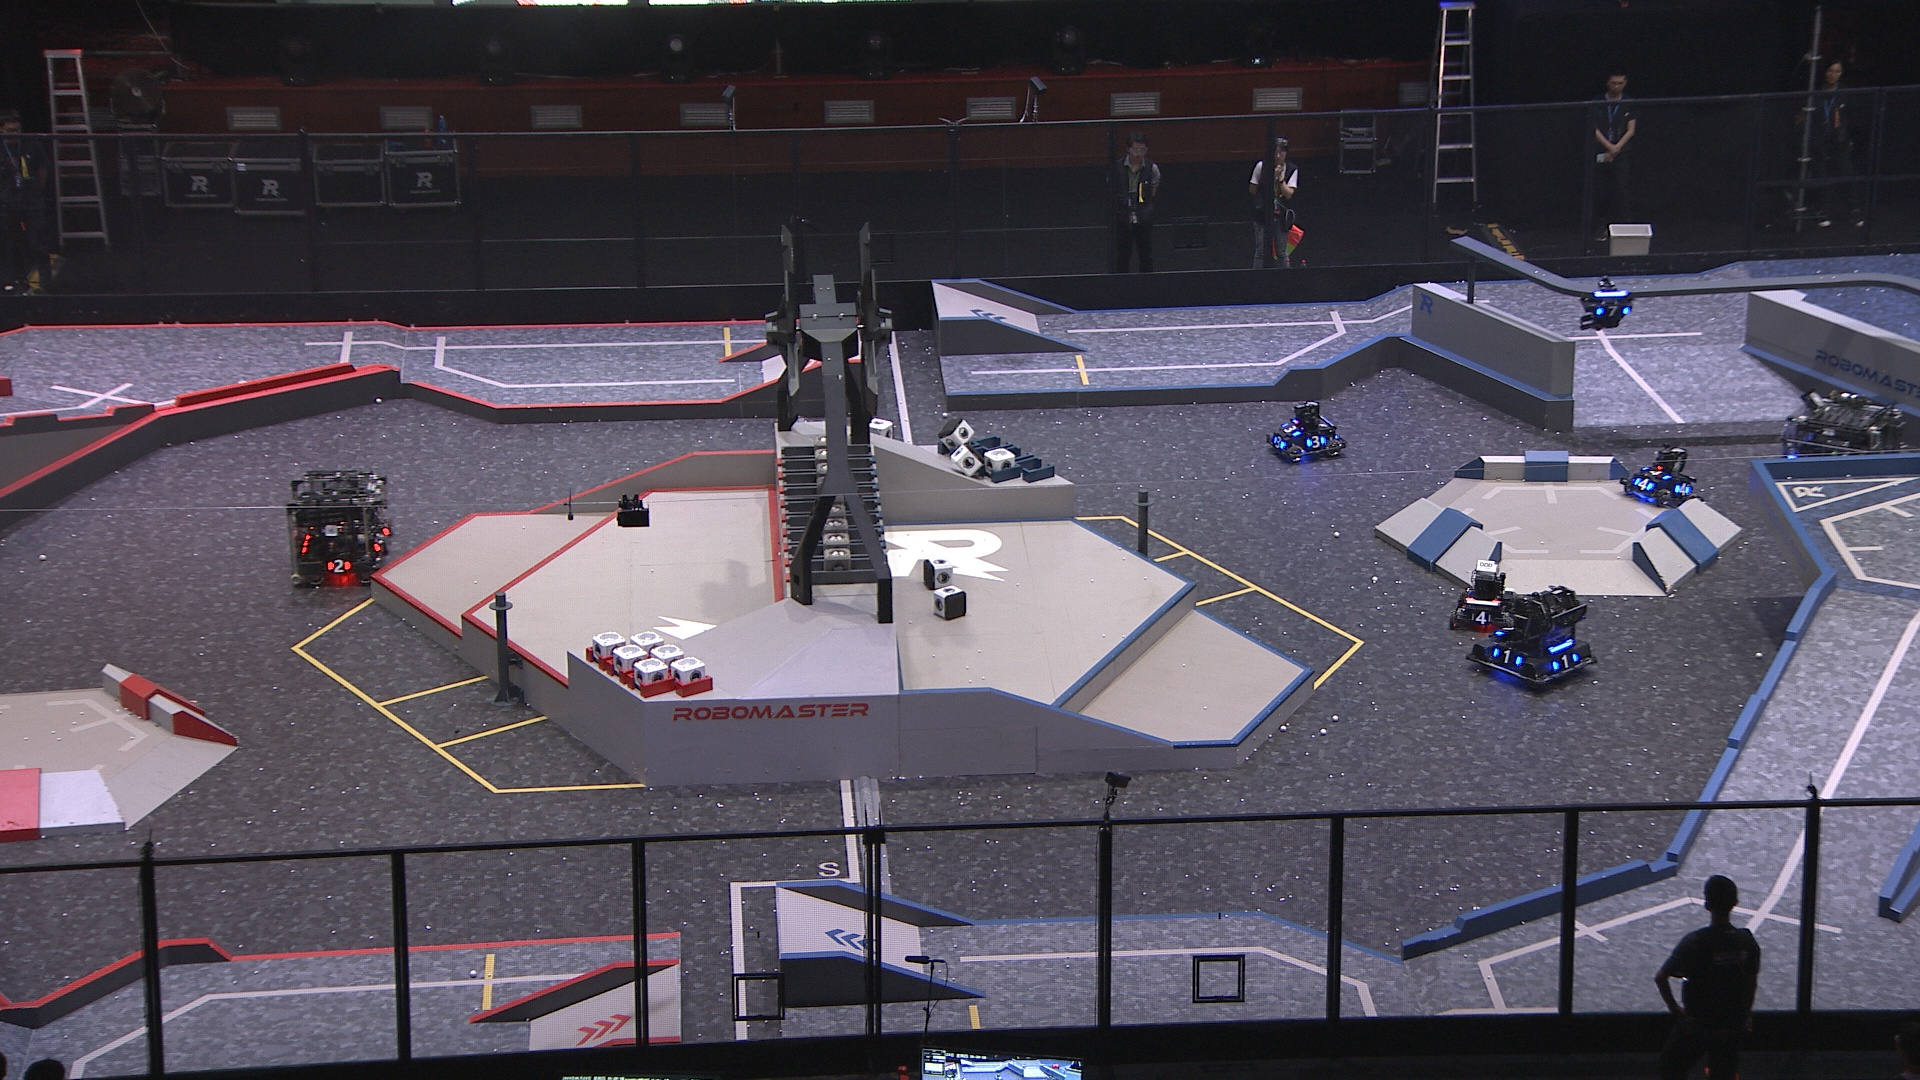armor: (1549, 651, 1580, 670), (1596, 305, 1629, 319), (1493, 647, 1519, 665), (1468, 611, 1495, 626), (1493, 622, 1519, 638), (324, 556, 348, 574), (1633, 475, 1654, 491), (1644, 465, 1667, 480), (1305, 434, 1328, 448), (1280, 422, 1300, 436), (1271, 436, 1284, 454), (1671, 484, 1691, 495), (375, 534, 384, 551)
car: (1780, 392, 1916, 502), (1466, 584, 1600, 684), (280, 467, 390, 585), (1619, 442, 1708, 512), (1263, 400, 1349, 469), (1447, 559, 1514, 624)
watcher: (1576, 276, 1633, 334)
